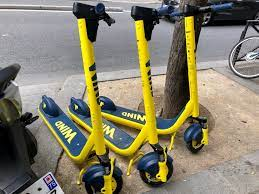kick_handler: (72, 2, 114, 28), (131, 5, 173, 26), (168, 4, 233, 15)
kick_neck: (79, 24, 105, 145), (135, 29, 158, 135), (184, 19, 199, 110)
kick_wheel: (79, 166, 123, 194), (139, 153, 173, 186), (186, 124, 208, 154)
